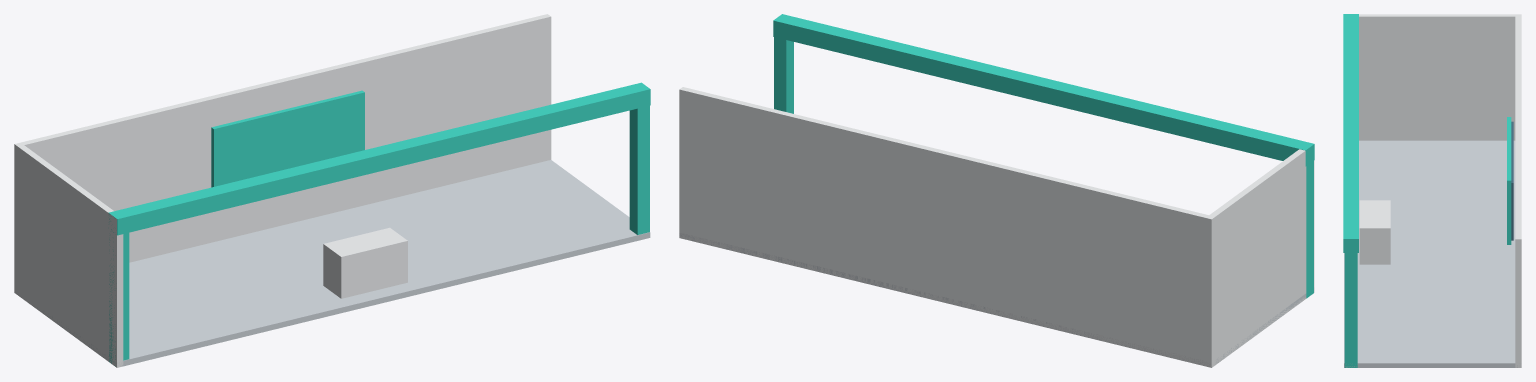
The picture shows the model from 3 angles, left to right: view 1: azimuth 30°, elevation 25°; view 2: azimuth 150°, elevation 25°; view 3: azimuth 270°, elevation 25°; orthographic projection. The views are drawn at different scales.
Visible parts, largest first — view 1: Exhibition Booth Concept; view 2: Exhibition Booth Concept; view 3: Exhibition Booth Concept.
Boxes of the visible parts, box(x1,y1,x2,y2) form: Exhibition Booth Concept: box(14, 14, 650, 367); Exhibition Booth Concept: box(679, 14, 1314, 367); Exhibition Booth Concept: box(1343, 14, 1521, 367).
Size of the model in its own units: 12 by 3.2 by 4.02.
